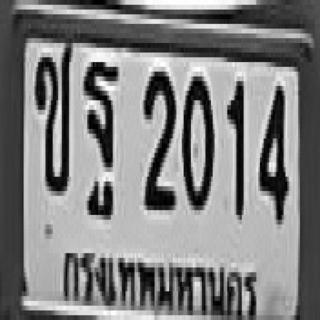A10: (33, 38, 71, 191)
A16: (81, 57, 117, 196)
N00: (180, 72, 213, 205)
N01: (226, 76, 242, 215)
N02: (142, 67, 175, 205)
N04: (258, 81, 285, 220)
P04: (58, 242, 262, 320)
